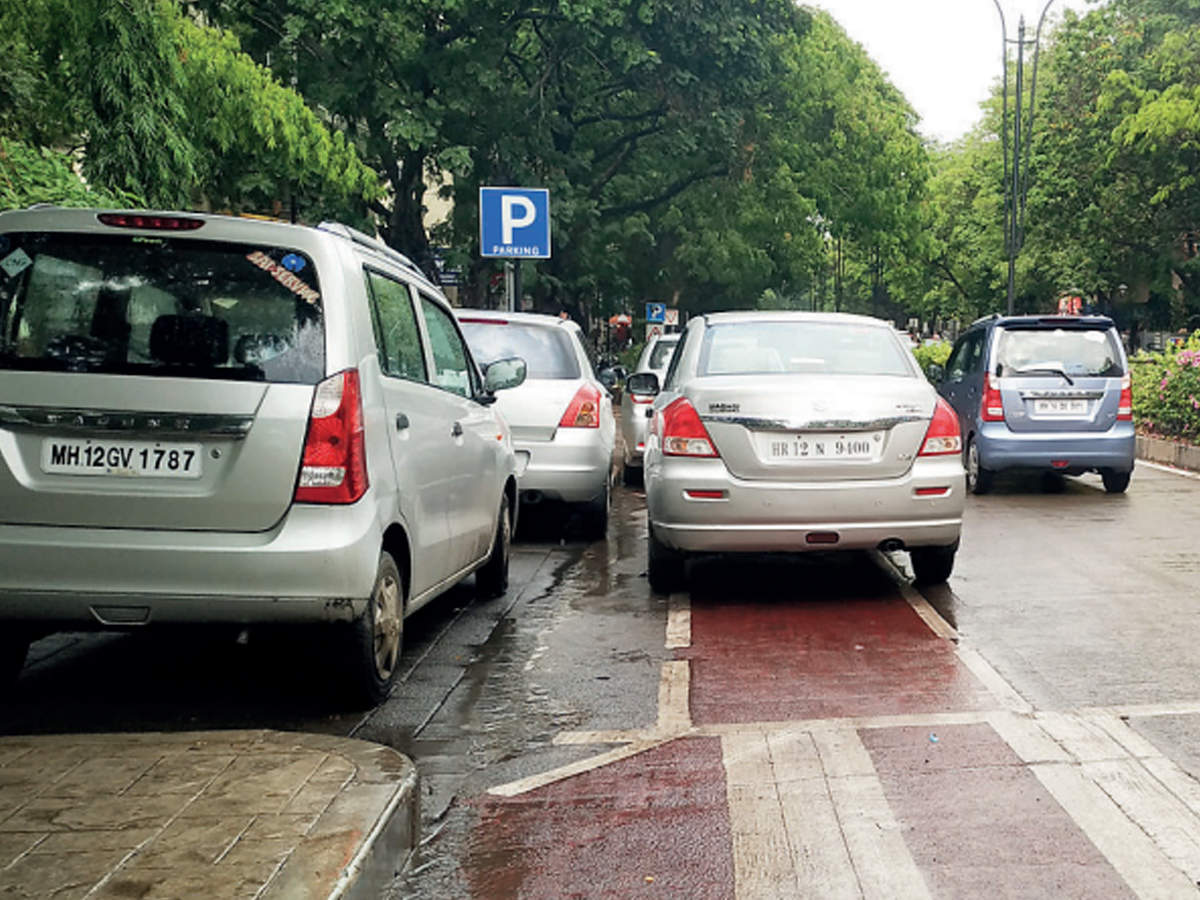car: (3, 208, 516, 668), (642, 309, 969, 590), (453, 305, 620, 527), (944, 314, 1136, 495)
tree branches: (561, 18, 739, 198)
